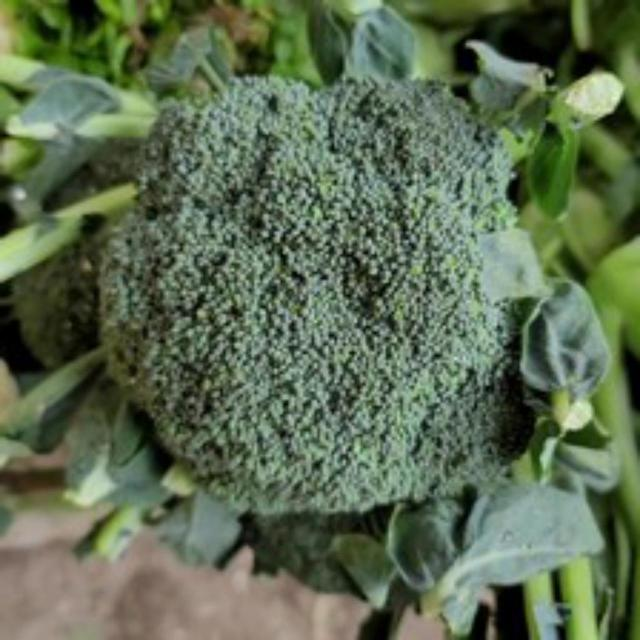broccoli: (87, 64, 568, 508)
